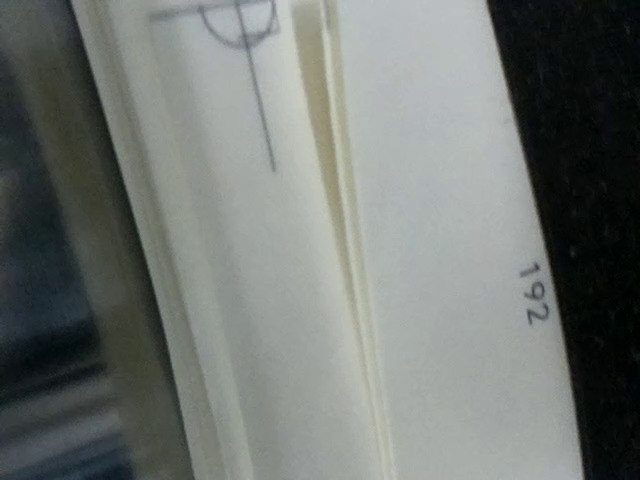not_sure: (148, 1, 285, 53)
